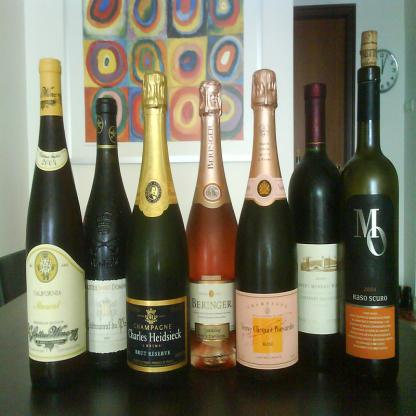drinking: (338, 31, 399, 382), (126, 71, 190, 392), (235, 68, 299, 386), (26, 57, 87, 387), (289, 84, 345, 374), (185, 80, 239, 371), (84, 97, 132, 369)
